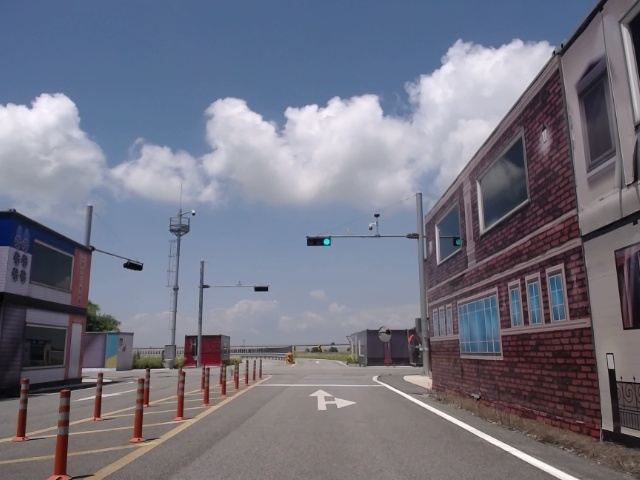green_3: (306, 237, 331, 246)
